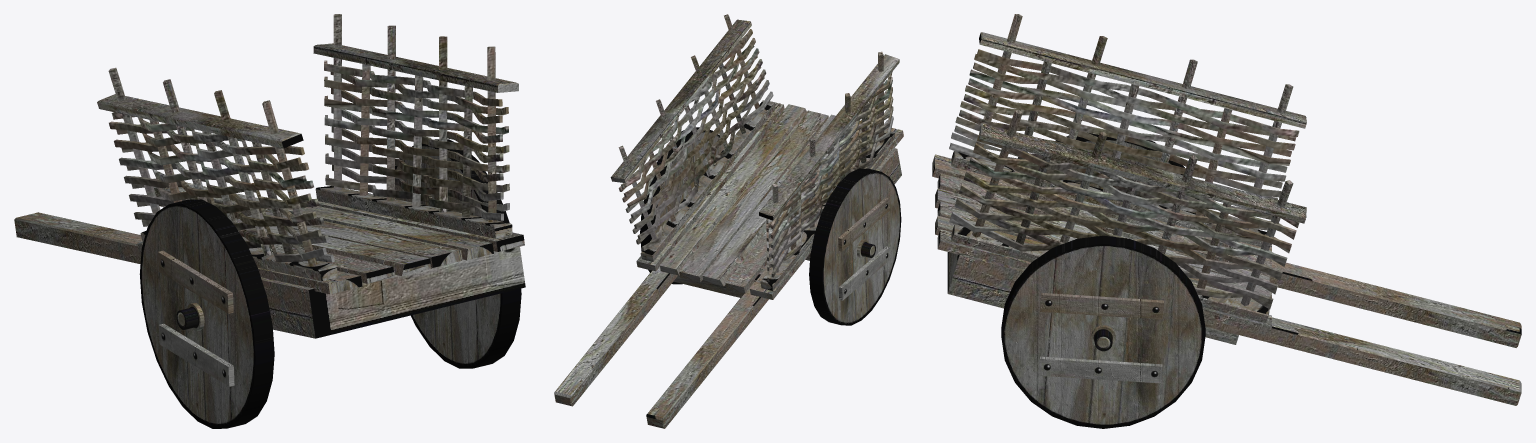
The model's file is wagen_1.FBX.
3 renders of one model, left to right at view 1: azimuth 30°, elevation 25°; view 2: azimuth 150°, elevation 25°; view 3: azimuth 270°, elevation 25°, orthographic. The views are drawn at different scales.
Parts seen in each view (by area): view 1: object9, object2, object3, object5, object8, object4, object1, object6, object7; view 2: object5, object9, object2, object3, object8, object6, object1, object7, object4; view 3: object9, object2, object3, object5, object8, object1, object6.
Part boxes in pixels (left/top/right/bottom): object9: left=109, top=60, right=509, bottom=262; object2: left=139, top=139, right=521, bottom=428; object3: left=14, top=46, right=497, bottom=338; object5: left=16, top=43, right=523, bottom=289; object8: left=108, top=14, right=496, bottom=266; object4: left=282, top=84, right=525, bottom=338; object1: left=158, top=250, right=234, bottom=386; object6: left=140, top=82, right=518, bottom=280; object7: left=328, top=235, right=524, bottom=294; object5: left=555, top=19, right=902, bottom=417; object9: left=618, top=29, right=893, bottom=281; object2: left=640, top=127, right=901, bottom=325; object3: left=554, top=21, right=903, bottom=428; object8: left=618, top=14, right=884, bottom=272; object6: left=611, top=19, right=897, bottom=290; object1: left=838, top=197, right=890, bottom=300; object7: left=636, top=250, right=772, bottom=299; object4: left=611, top=177, right=810, bottom=297; object9: left=949, top=49, right=1299, bottom=309; object2: left=1001, top=132, right=1205, bottom=428; object3: left=932, top=38, right=1521, bottom=405; object5: left=935, top=32, right=1519, bottom=389; object8: left=972, top=14, right=1293, bottom=306; object1: left=1038, top=292, right=1163, bottom=383; object6: left=951, top=32, right=1306, bottom=315.
Size of the model in its own units: 1.1 by 1.24 by 2.13.
9 materials, 9 textured.
